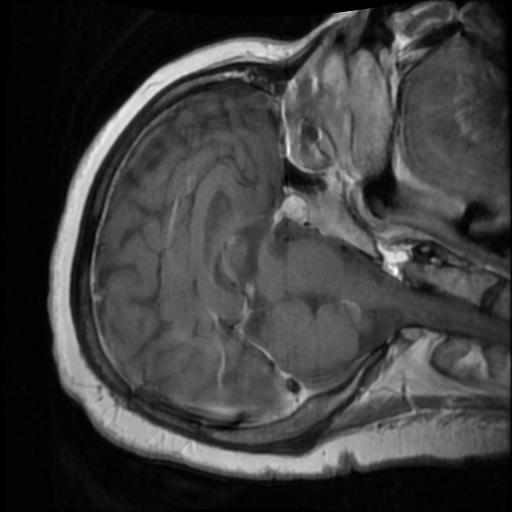pituitary tumour: (280, 195, 308, 226)
